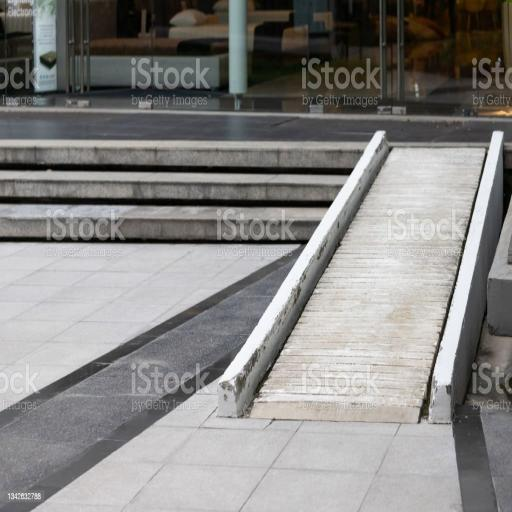ramp: (220, 134, 504, 420)
stairs: (0, 144, 364, 244)
